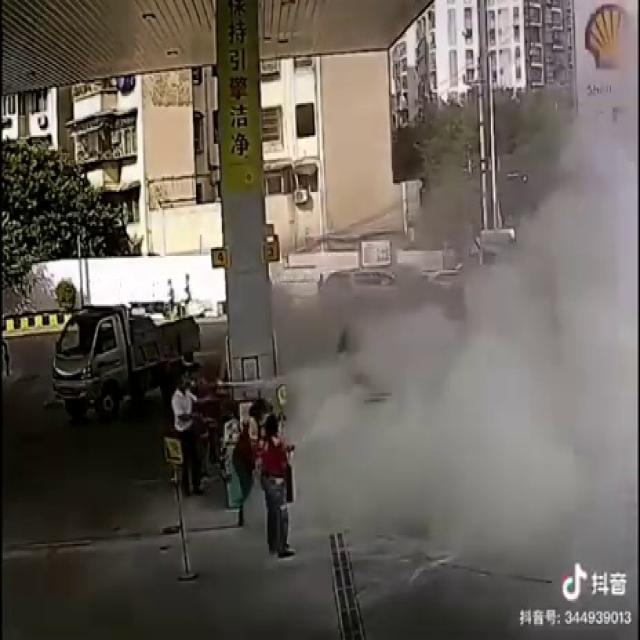Smoke: (284, 58, 636, 588)
